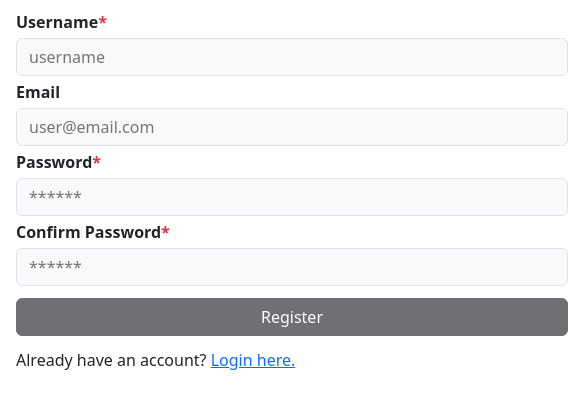
Register component › should render loading when sending the register request
The image size is (585, 399).
Expected: the button "Register" is shown, [16,298,568,336]
Type "asd" into the field named "username-input" at coordinates (292, 57), box [16,38,568,76]
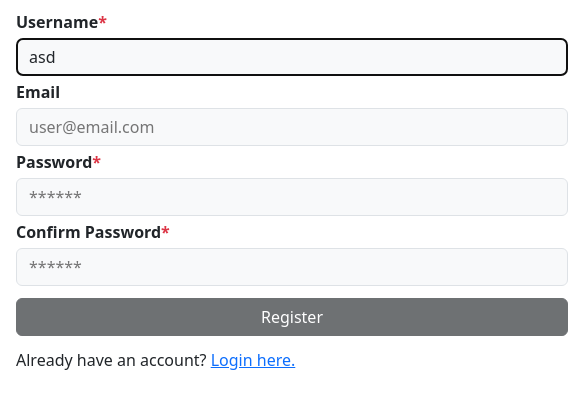
Type "mail@gmail.com" into the field named "email-input" at coordinates (292, 127), box [16,108,568,146]
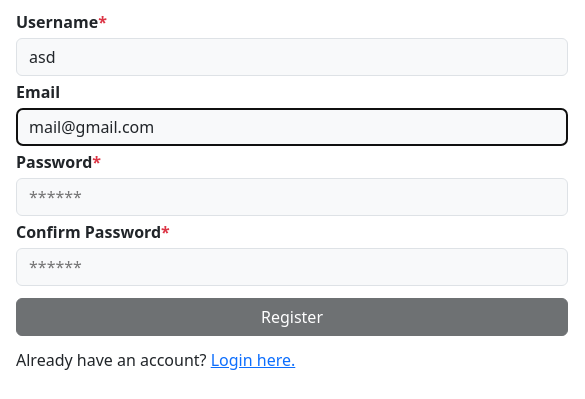
Type "123123" into the password field named "password-input" at coordinates (292, 197), box [16,178,568,216]
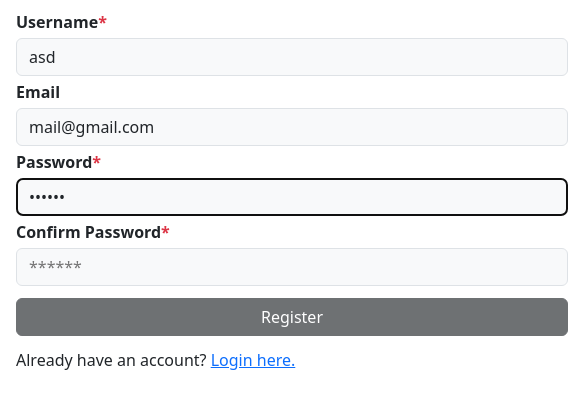
Type "123123" into the password field named "confirm-password-input" at coordinates (292, 267), box [16,248,568,286]
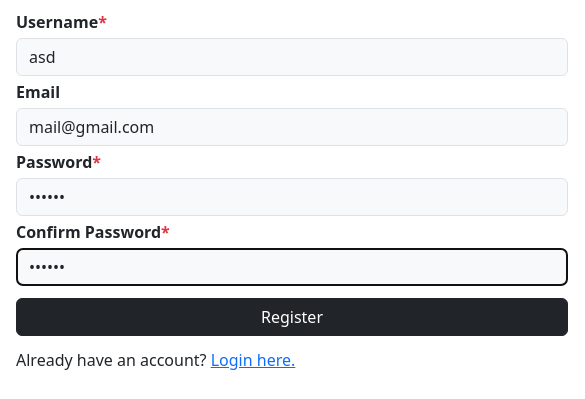
Click the button "Register" at coordinates (292, 317), box [16,298,568,336]
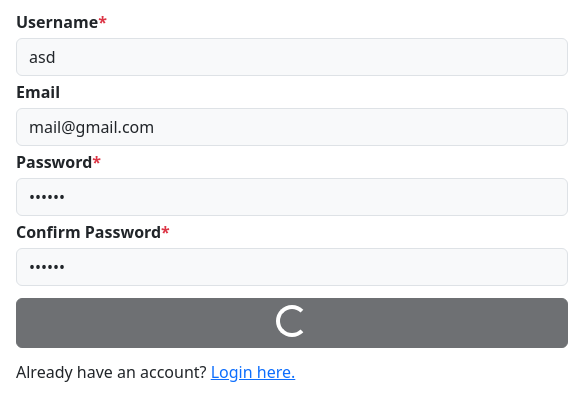
Now the message is shown, box [276,305,308,337]
Now the button "Register" is gone
